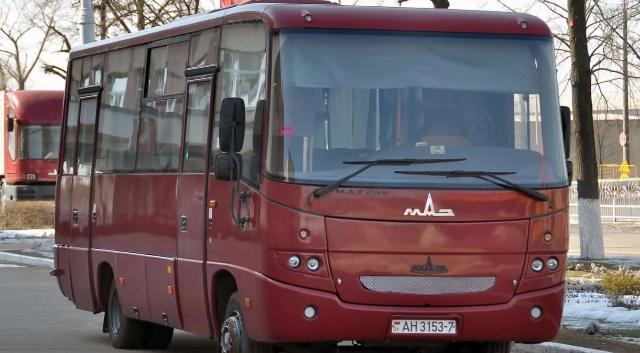bus: (50, 1, 583, 352)
